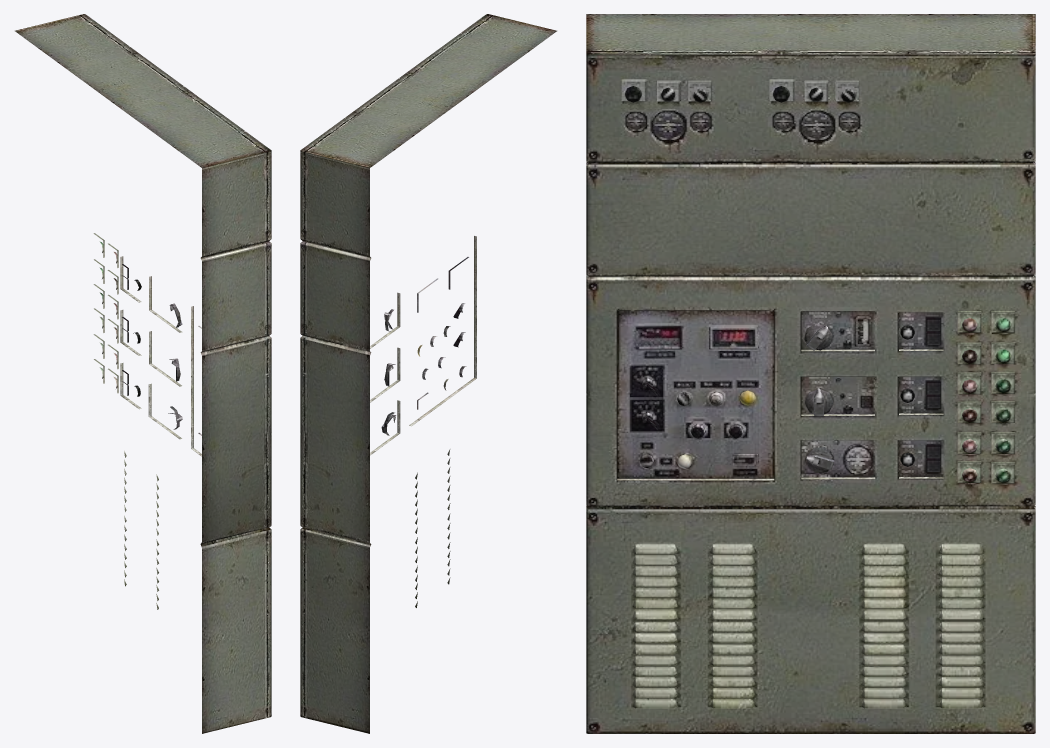
File: wall_console1.glb
3 renders of one model, left to right at view 1: azimuth 30°, elevation 25°; view 2: azimuth 150°, elevation 25°; view 3: azimuth 270°, elevation 25°, orthographic. The views are drawn at different scales.
Visible parts, largest first — view 1: 1_wall_console2, 0_wall_console1; view 2: 1_wall_console2, 0_wall_console1; view 3: 0_wall_console1, 1_wall_console2.
Boxes of the visible parts, <box> form: 1_wall_console2: <box>15,14,271,733</box>; 0_wall_console1: <box>93,150,271,716</box>; 1_wall_console2: <box>300,14,556,733</box>; 0_wall_console1: <box>300,150,476,716</box>; 0_wall_console1: <box>586,54,1035,733</box>; 1_wall_console2: <box>586,14,1035,508</box>.
Bounding box in the file's own units: 0.3429 × 2.43 × 1.46.
2 materials, 2 textured.
